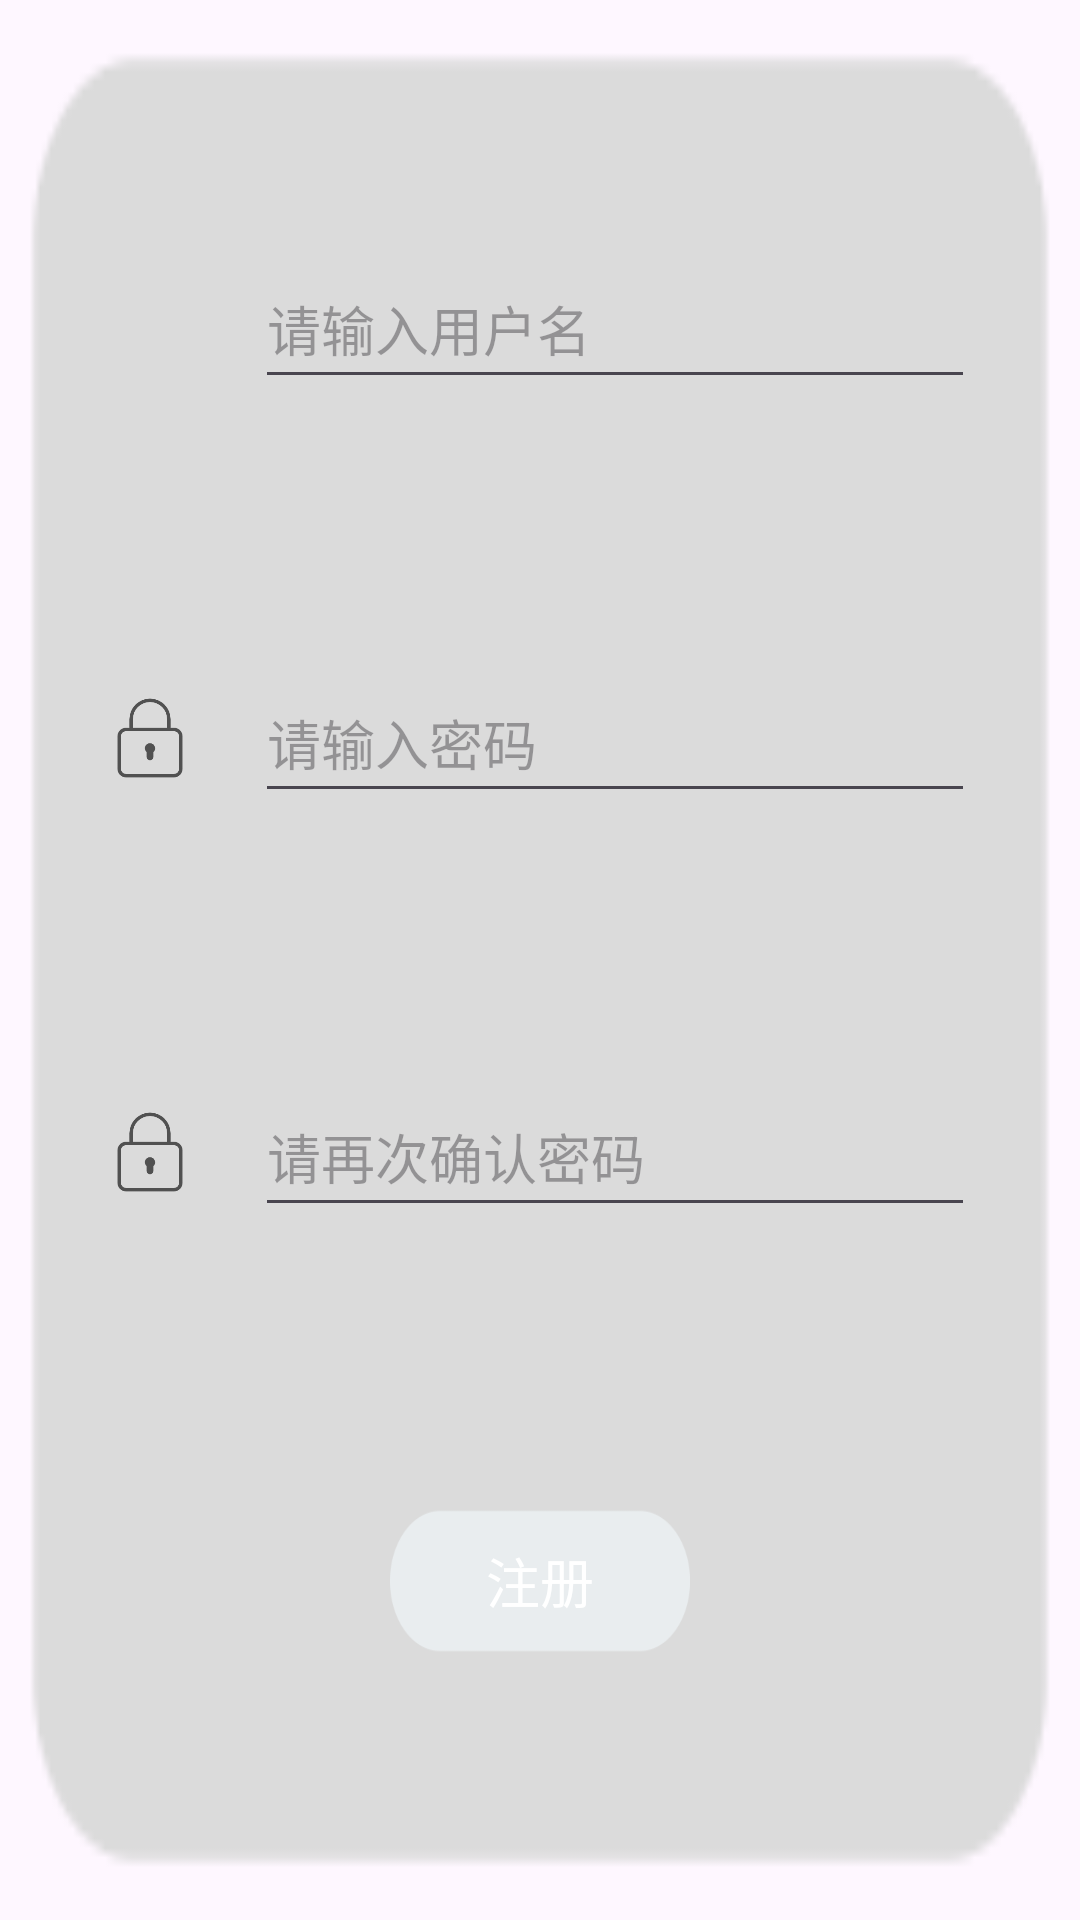

Point at icon controls on the screen. Image size 1080w x 1920h, points as (x=x, y=y).
password: (x=150, y=738), (x=150, y=1152)
